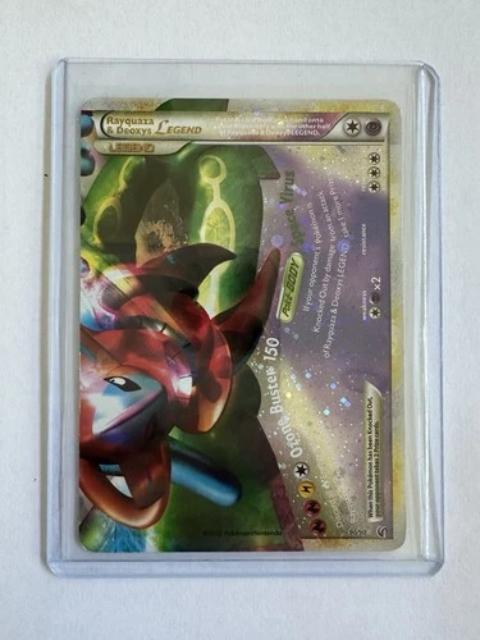Card: (74, 93, 410, 555)
Name: (99, 112, 207, 140)
